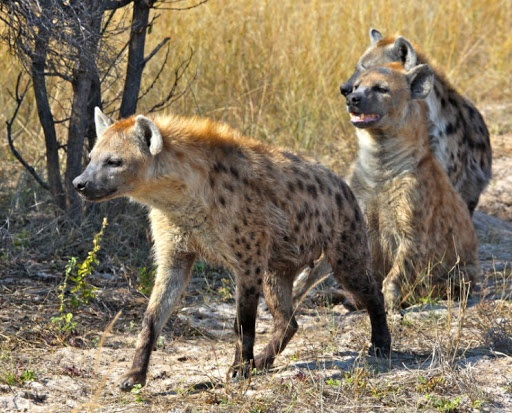hyna: (68, 101, 395, 393), (283, 60, 483, 323), (339, 23, 501, 228)
